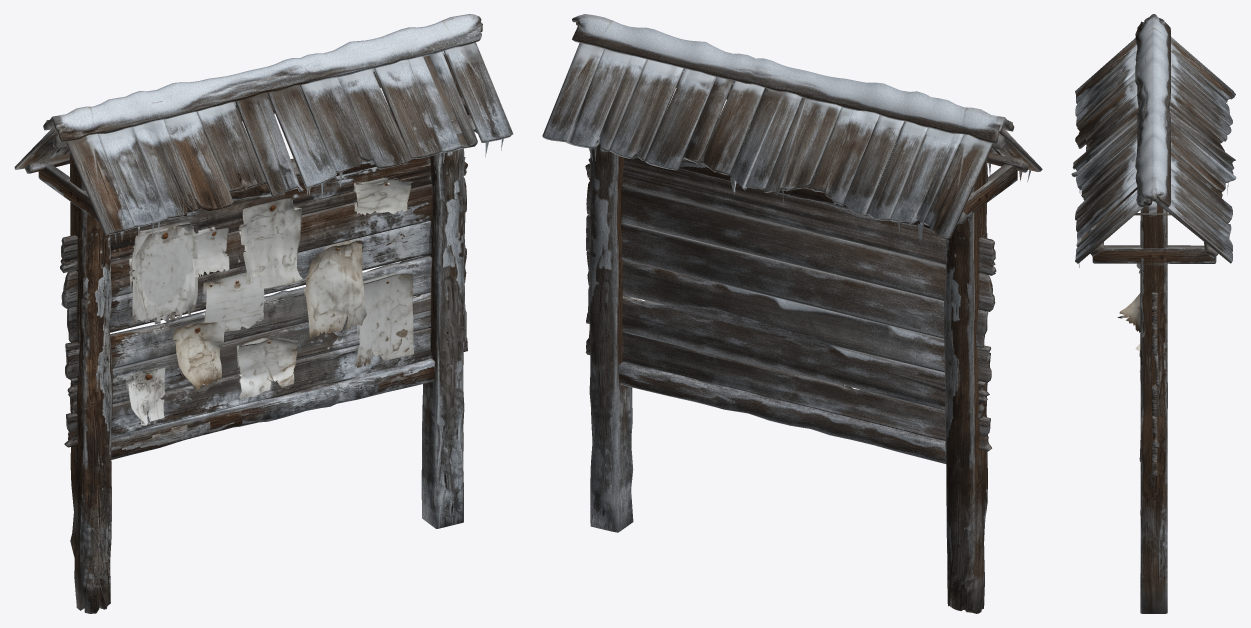
The model's file is road_notice_board.glb.
3 views of the same model, side by side, from view 1: azimuth 30°, elevation 25°; view 2: azimuth 150°, elevation 25°; view 3: azimuth 270°, elevation 25° (orthographic). The views are drawn at different scales.
Bounding box in the file's own units: 0.8486 × 0.9521 × 0.3281.
Materials: 1 (1 with a texture image).
